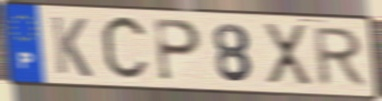8: (212, 21, 254, 84)
C: (98, 12, 152, 85)
K: (48, 14, 94, 80)
P: (153, 17, 204, 84)
R: (312, 26, 370, 89)
X: (260, 20, 315, 90)
